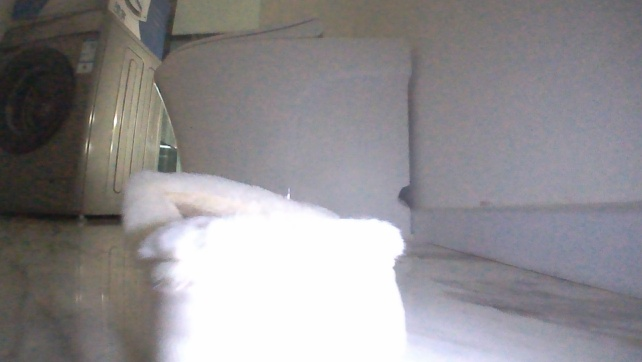socks: (117, 169, 408, 360)
toilet: (149, 11, 413, 242)
washing_machine: (0, 1, 163, 224)
